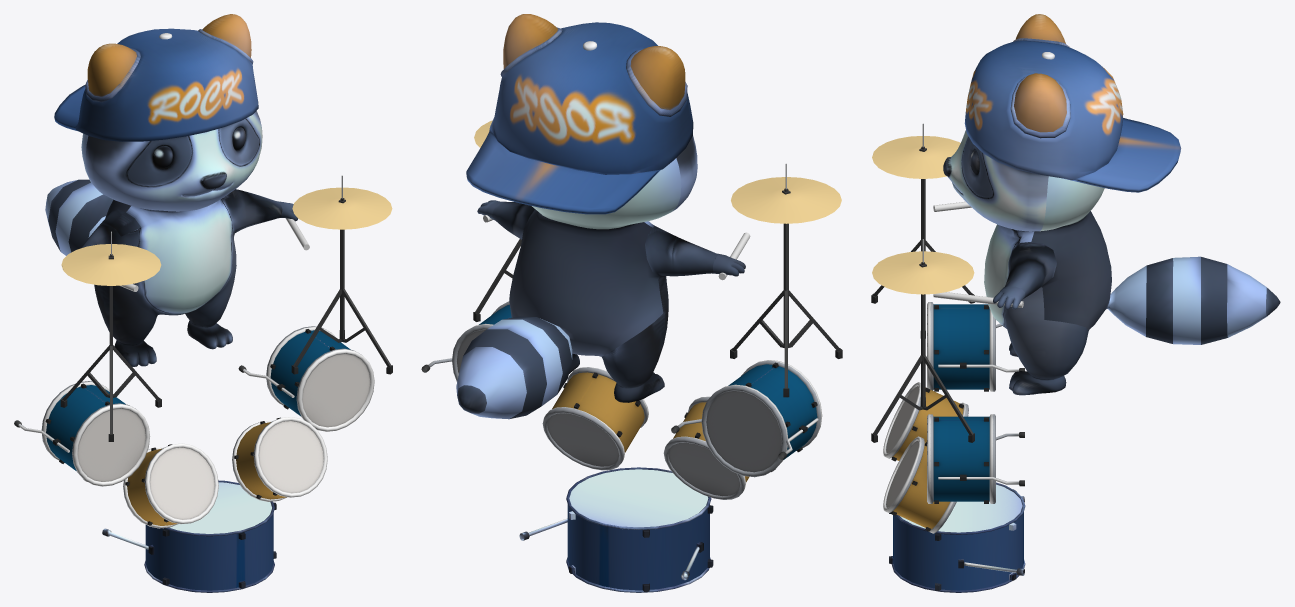
The model's file is raccoon.glb.
The picture shows the model from 3 angles, left to right: view 1: azimuth 30°, elevation 25°; view 2: azimuth 150°, elevation 25°; view 3: azimuth 270°, elevation 25°; orthographic projection. The views are drawn at different scales.
Parts seen in each view (by area): view 1: 0, Circle.005, Circle.004, Circle.003, Cube.004_drum_defaultCol_0; view 2: 0, Circle.003, Circle.005, Circle.004, Cube.004_drum_defaultCol_0; view 3: 0, Circle.005, Circle.003, Cube.004_drum_defaultCol_0, Circle.004, stick_stick_0.
Part boxes in pixels (left/top/right/bottom): 0: left=45, top=14, right=297, bottom=366; Circle.005: left=14, top=326, right=374, bottom=486; Circle.004: left=123, top=417, right=327, bottom=528; Circle.003: left=102, top=480, right=276, bottom=592; Cube.004_drum_defaultCol_0: left=60, top=175, right=392, bottom=441; 0: left=456, top=14, right=745, bottom=419; Circle.003: left=519, top=467, right=713, bottom=592; Circle.005: left=421, top=301, right=822, bottom=477; Circle.004: left=542, top=367, right=749, bottom=499; Cube.004_drum_defaultCol_0: left=473, top=120, right=842, bottom=397; 0: left=943, top=14, right=1280, bottom=395; Circle.005: left=927, top=302, right=1024, bottom=503; Circle.003: left=889, top=482, right=1025, bottom=592; Cube.004_drum_defaultCol_0: left=871, top=123, right=974, bottom=442; Circle.004: left=883, top=382, right=968, bottom=533; stick_stick_0: left=933, top=201, right=1023, bottom=307.
Bounding box in the file's own units: 8.75 × 12.98 × 9.27.
4 materials, 3 textured.
